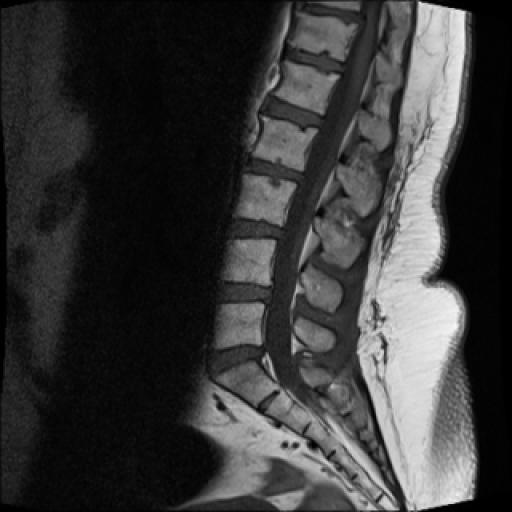L1: (273, 60, 340, 114)
L2: (252, 116, 318, 170)
L3: (235, 174, 296, 226)
L4: (221, 240, 276, 286)
L5: (215, 303, 262, 348)
S1: (216, 361, 280, 408)
